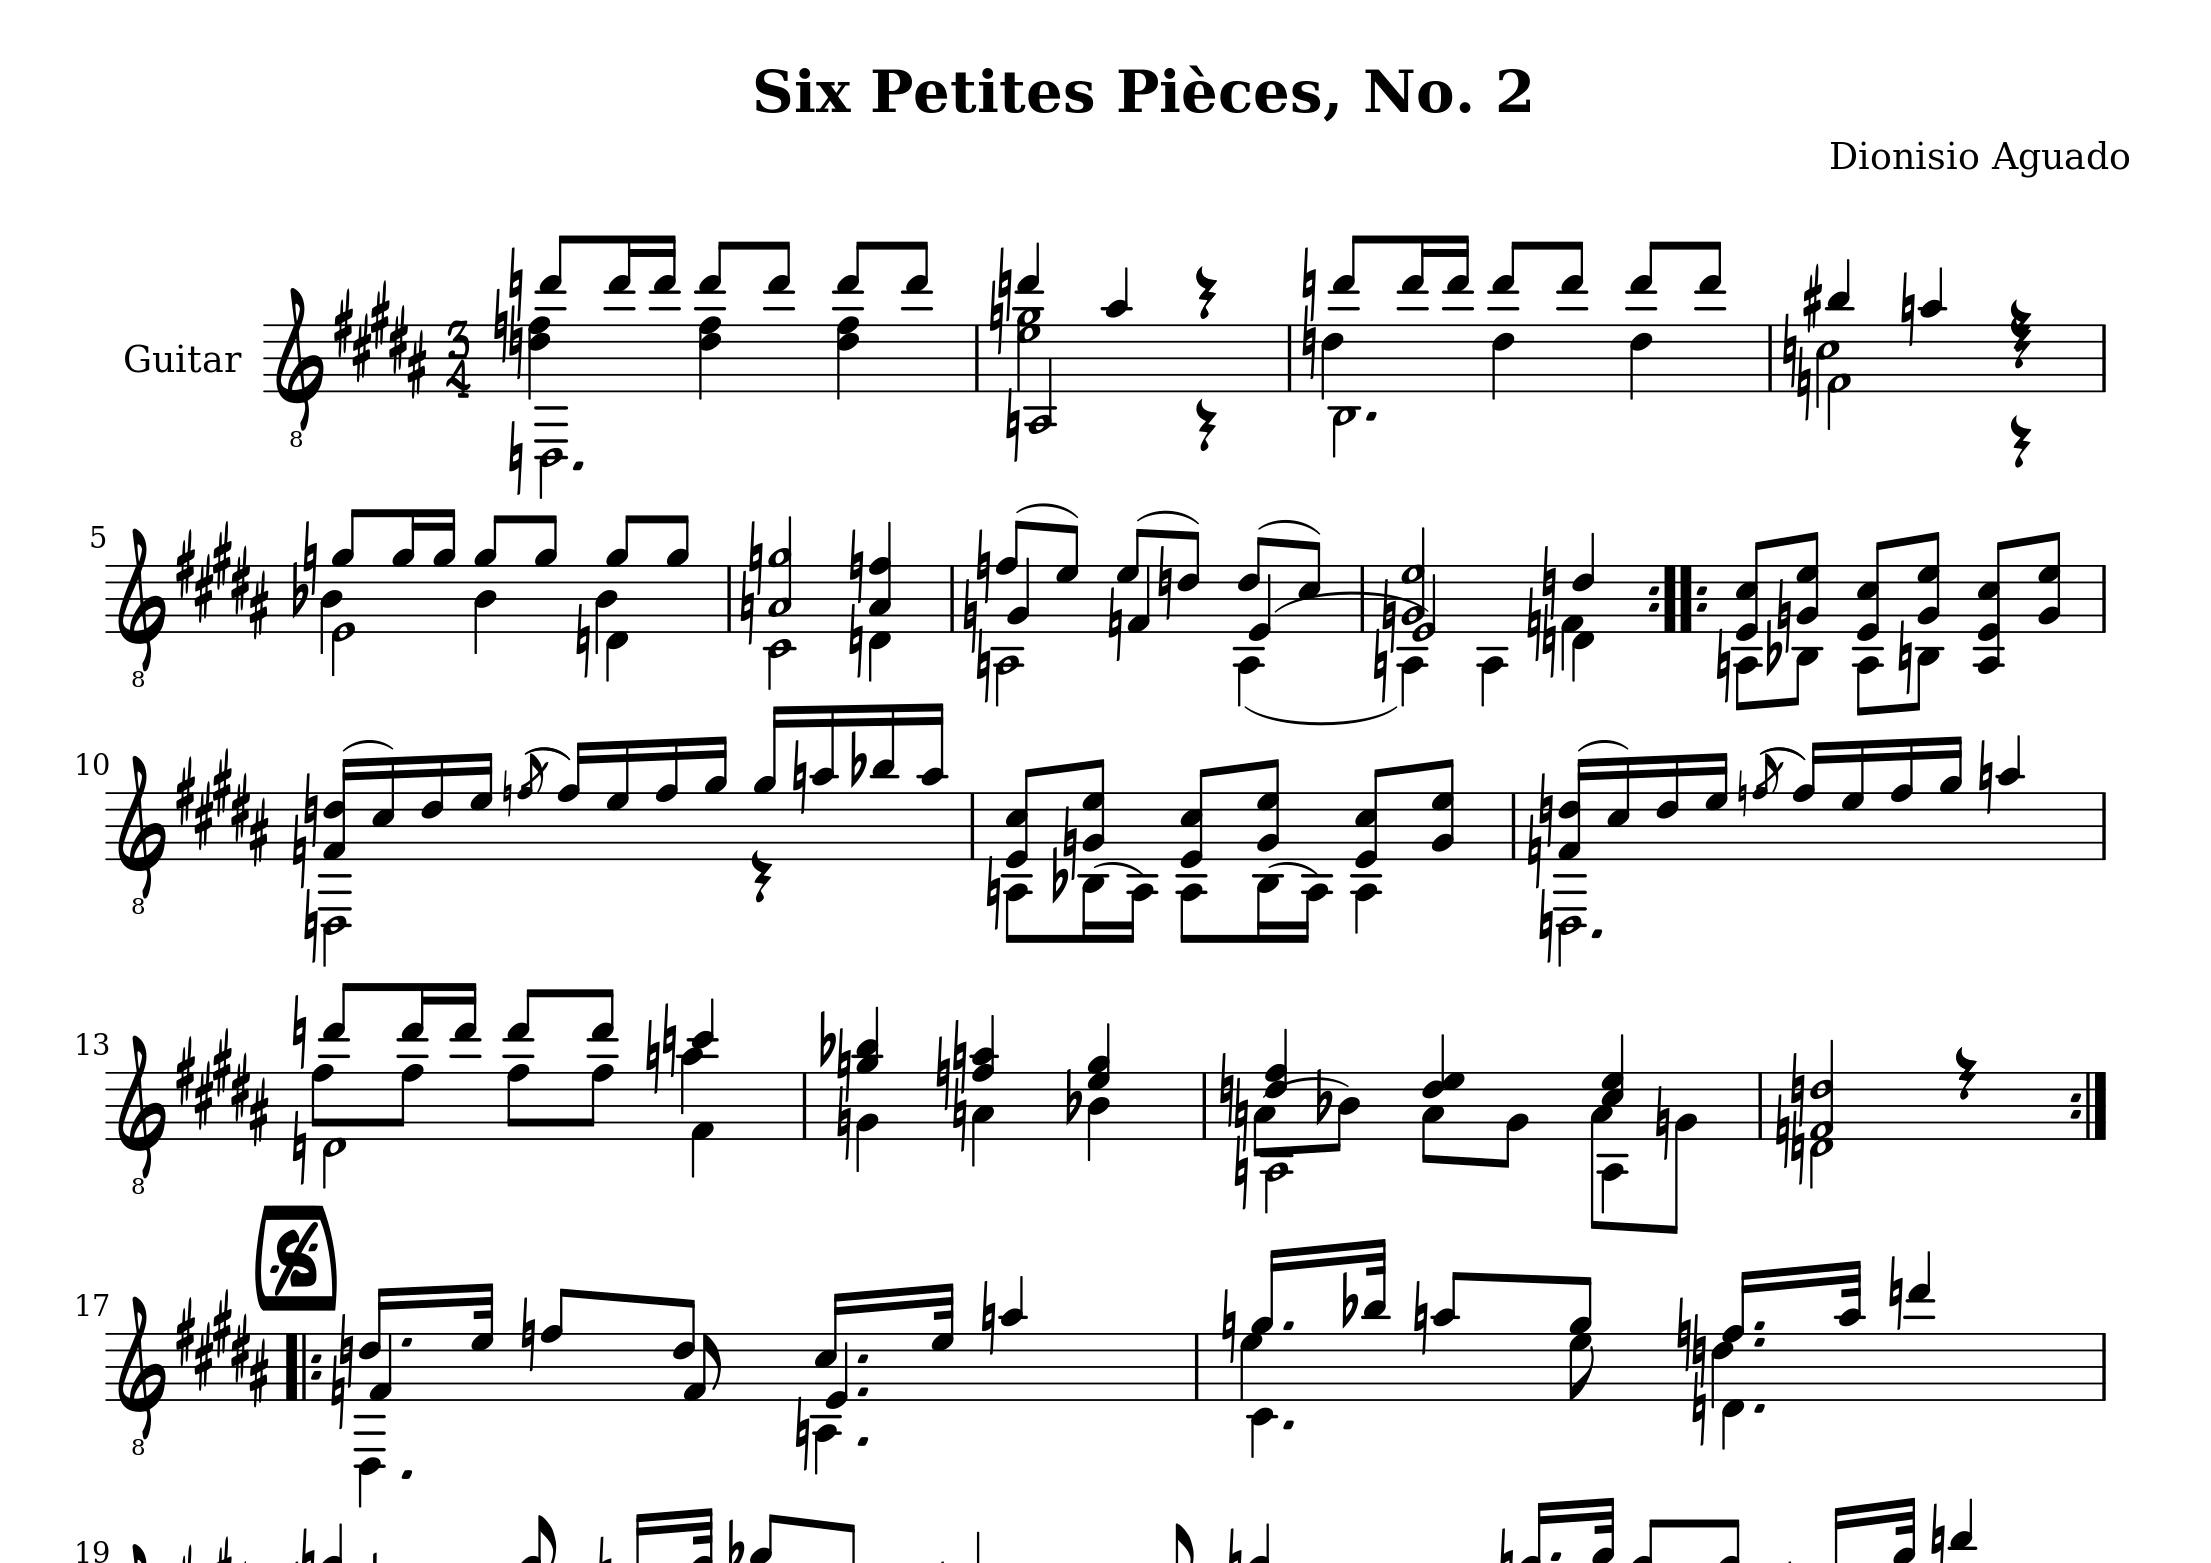0: (91, 748, 108, 780)
1: (74, 749, 90, 778), (74, 1028, 90, 1056), (74, 1291, 90, 1318), (74, 1538, 88, 1561)
16_-3: (1254, 788, 1282, 942)
16_-4: (1120, 788, 1159, 944), (1296, 788, 1333, 946)
16_10: (917, 702, 947, 869), (809, 699, 837, 863)
16_11: (870, 699, 898, 863)
16_13: (602, 232, 636, 394), (1397, 232, 1429, 396), (448, 978, 480, 1140), (1441, 233, 1472, 396), (650, 232, 678, 394)
16_5: (369, 754, 396, 861), (1605, 754, 1632, 861)
16_6: (420, 751, 447, 863), (1654, 753, 1682, 863)
16_7: (604, 736, 629, 861), (1841, 738, 1864, 861), (1704, 749, 1729, 863), (469, 749, 492, 861)
16_8: (557, 739, 590, 863), (1791, 739, 1824, 863), (1890, 738, 1915, 863), (655, 738, 680, 861)
16_9: (753, 704, 782, 858), (391, 506, 420, 634), (431, 506, 457, 631), (1939, 734, 1962, 863), (704, 732, 727, 859)
3: (447, 316, 470, 359), (91, 1028, 108, 1056)
32_10: (1835, 1257, 1863, 1402)
32_11: (1360, 1231, 1391, 1407)
32_7: (930, 1281, 957, 1402), (470, 1281, 496, 1402)
4: (445, 357, 474, 398)
4_-4: (1477, 562, 1507, 709)
4_10: (1101, 264, 1132, 394), (1918, 266, 1945, 394), (1000, 1274, 1027, 1402), (1996, 732, 2022, 861)
4_13: (1905, 1247, 1935, 1404)
4_4: (474, 563, 497, 655)
4_6: (1490, 321, 1516, 399), (1627, 321, 1653, 399)
5: (90, 521, 107, 550)
7: (91, 1291, 108, 1318)
8_1: (683, 1333, 722, 1402)
8_10: (1431, 1269, 1467, 1402)
8_13: (761, 239, 795, 394), (900, 239, 934, 394), (1556, 239, 1588, 396), (1693, 239, 1725, 396)
8_2: (1666, 1066, 1697, 1235), (1494, 1069, 1529, 1171)
8_2_7: (1431, 758, 1457, 861), (2038, 529, 2062, 636)
8_4: (1330, 1071, 1360, 1154)
8_5: (1298, 538, 1321, 634)
8_6: (1176, 529, 1201, 634)
8_7: (1054, 523, 1079, 634), (1566, 1331, 1595, 1404)
8_8: (540, 1286, 573, 1402)
8_9: (531, 513, 558, 634), (665, 513, 690, 634)
9: (91, 1538, 110, 1561)
Acciaccature: (518, 753, 546, 861), (1754, 754, 1781, 861)
B_S: (174, 521, 271, 638), (176, 749, 271, 866), (333, 281, 425, 396)
E_S: (174, 1028, 269, 1145), (174, 1292, 271, 1402)
Flat: (848, 727, 868, 788), (1062, 1066, 1083, 1127), (289, 558, 310, 617), (1051, 842, 1069, 905), (1313, 1066, 1331, 1127), (1340, 1269, 1358, 1330), (1764, 617, 1781, 677), (819, 1008, 836, 1067), (726, 1516, 744, 1563)
Guit: (123, 338, 201, 374)
LeftRepeatSign: (284, 1333, 321, 1401)
Lower_Gclef: (274, 284, 326, 450), (115, 1034, 167, 1196), (115, 1294, 167, 1456), (117, 526, 167, 688), (117, 754, 167, 917)
Natural: (780, 709, 807, 849), (301, 518, 320, 607), (289, 1106, 310, 1186), (289, 991, 310, 1071), (643, 1013, 661, 1098), (1886, 1250, 1905, 1331), (1370, 624, 1389, 704), (328, 1353, 347, 1433), (792, 1394, 810, 1473), (1411, 1277, 1429, 1357), (1061, 803, 1078, 890), (506, 418, 524, 496), (1299, 304, 1318, 382), (573, 601, 592, 678), (1895, 617, 1913, 695), (1536, 886, 1555, 964), (1003, 386, 1022, 462), (846, 602, 864, 678), (661, 1001, 678, 1084), (738, 572, 756, 646), (1220, 1286, 1237, 1367), (1781, 311, 1798, 391), (303, 770, 320, 849), (1232, 1132, 1248, 1211), (1653, 1083, 1670, 1162), (338, 1311, 355, 1390), (1299, 244, 1318, 315), (492, 286, 509, 364), (1900, 269, 1917, 347), (974, 526, 991, 604), (1714, 626, 1731, 704), (792, 738, 809, 815), (985, 853, 1001, 930), (1538, 770, 1555, 847), (979, 1279, 996, 1357), (1690, 1368, 1707, 1446), (974, 626, 991, 702), (1106, 585, 1123, 661), (1155, 545, 1172, 621), (1776, 577, 1791, 661), (303, 886, 320, 962), (519, 1296, 536, 1372), (1675, 1294, 1692, 1370), (848, 526, 864, 601), (1978, 739, 1994, 814), (1524, 587, 1541, 660), (836, 1089, 853, 1162), (951, 1083, 968, 1155), (1790, 1103, 1805, 1182), (507, 244, 524, 315), (1795, 347, 1812, 418), (291, 815, 308, 886), (1541, 599, 1556, 677), (961, 582, 978, 651), (1928, 1500, 1947, 1563), (748, 518, 765, 585), (507, 306, 523, 381), (935, 1030, 951, 1105), (1775, 1096, 1790, 1171), (1526, 815, 1543, 880), (836, 1027, 853, 1089), (1380, 577, 1396, 646), (952, 1018, 968, 1088), (1220, 1057, 1233, 1132), (1233, 1083, 1248, 1138), (1692, 1313, 1705, 1374), (501, 766, 514, 819), (1736, 766, 1749, 817)
Rests4: (2006, 296, 2033, 370), (748, 847, 775, 907), (1193, 396, 1220, 453), (2006, 413, 2033, 470), (1193, 262, 1218, 320), (1952, 1044, 1978, 1101)
RightAndLeftRepeatSign: (1648, 563, 1709, 633)
RightRepeatSign: (2067, 1071, 2110, 1138)
Segno: (267, 1221, 323, 1292)
Sharp: (1802, 262, 1824, 332)
Single_barline: (2094, 325, 2111, 391), (2094, 792, 2111, 858), (1188, 1333, 1204, 1397), (2094, 1333, 2111, 1397), (797, 1072, 814, 1135), (2096, 563, 2111, 633), (1282, 325, 1298, 389), (1763, 325, 1778, 389), (1355, 565, 1370, 629), (1506, 793, 1521, 858), (964, 793, 979, 858), (1198, 1072, 1213, 1137), (1753, 1072, 1768, 1137), (969, 325, 985, 387), (722, 565, 736, 629), (946, 565, 959, 629), (996, 851, 1003, 912)
Slur: (1248, 707, 1394, 726), (1259, 514, 1319, 535), (1015, 499, 1079, 518), (1137, 506, 1199, 524), (1577, 738, 1631, 753), (1279, 1076, 1348, 1088), (524, 744, 572, 761), (343, 738, 394, 753), (1764, 744, 1805, 761), (1267, 859, 1316, 873), (1095, 861, 1140, 875)
TimeSig: (443, 318, 472, 399)
dot: (854, 1348, 871, 1365), (398, 1463, 414, 1480), (570, 455, 585, 472), (1281, 1318, 1298, 1333), (1281, 1416, 1298, 1431), (854, 1431, 871, 1446), (1749, 1318, 1768, 1331), (1546, 1548, 1565, 1561), (1749, 1335, 1769, 1346), (1363, 408, 1380, 421), (1588, 925, 1604, 939), (854, 1384, 870, 1397), (1751, 1401, 1768, 1412), (399, 1335, 413, 1348)
